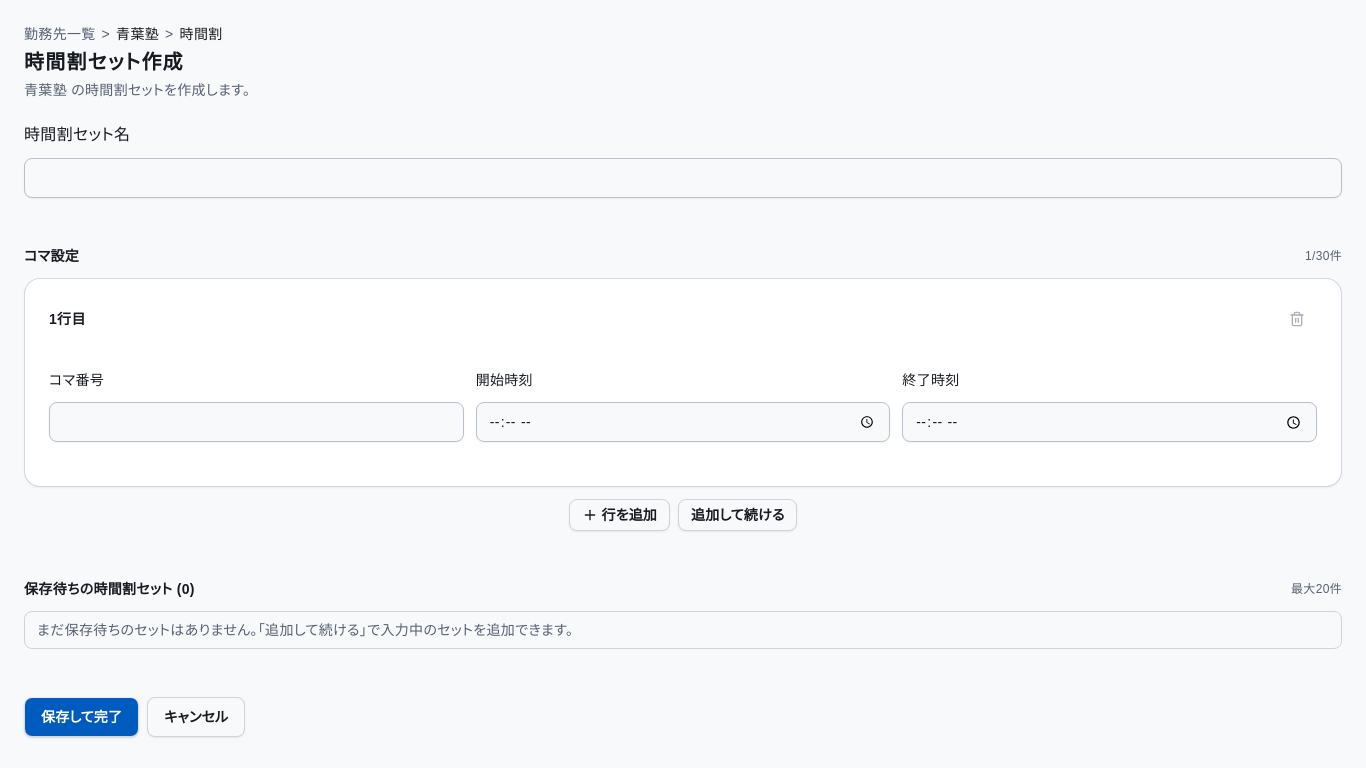
Test: 勤務先管理のP2 UX › 時間割フォームは31限を送信せず、コマ番号入力の上限を表示する
In the field labelled "時間割セット名": (683, 178) [24,158,1342,198], type "夏期時間割"
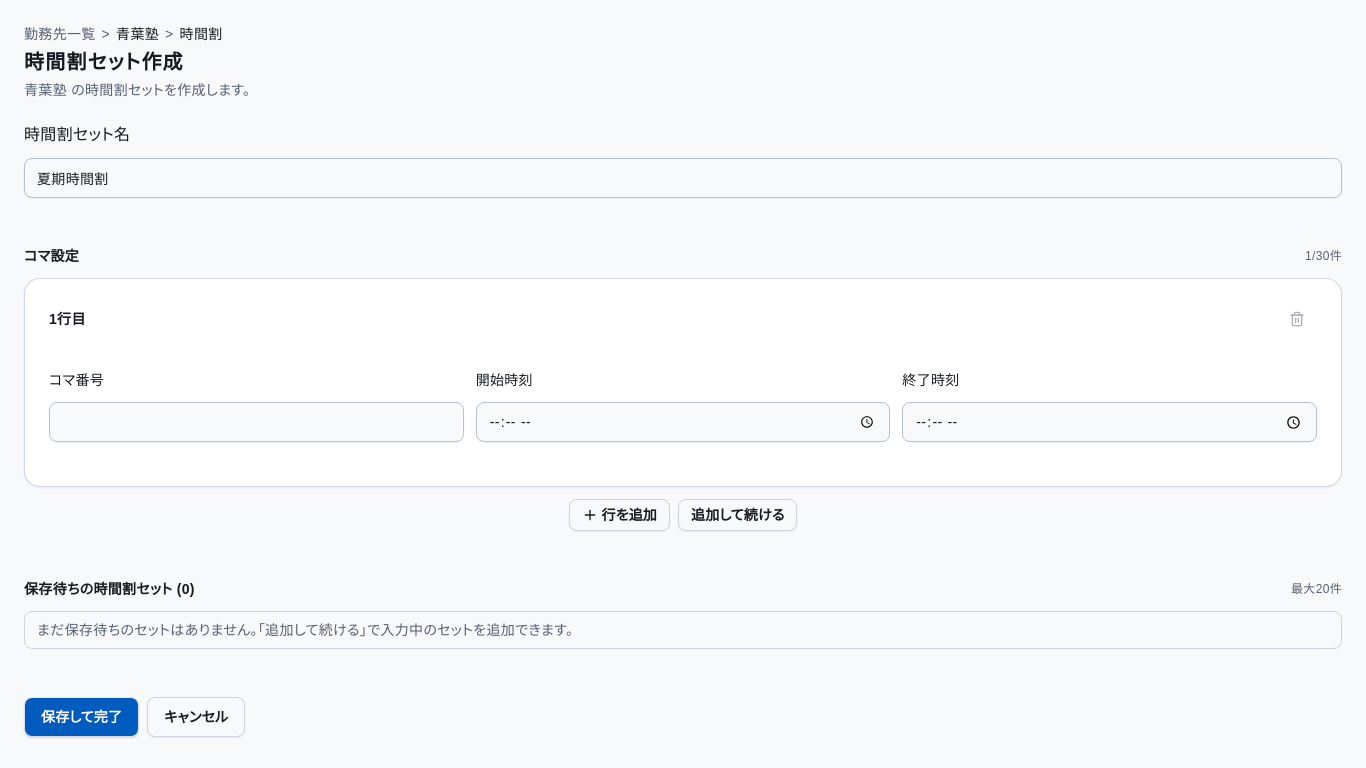
In the time field below "開始時刻": (683, 422) [476,402,890,442], type "09:00"
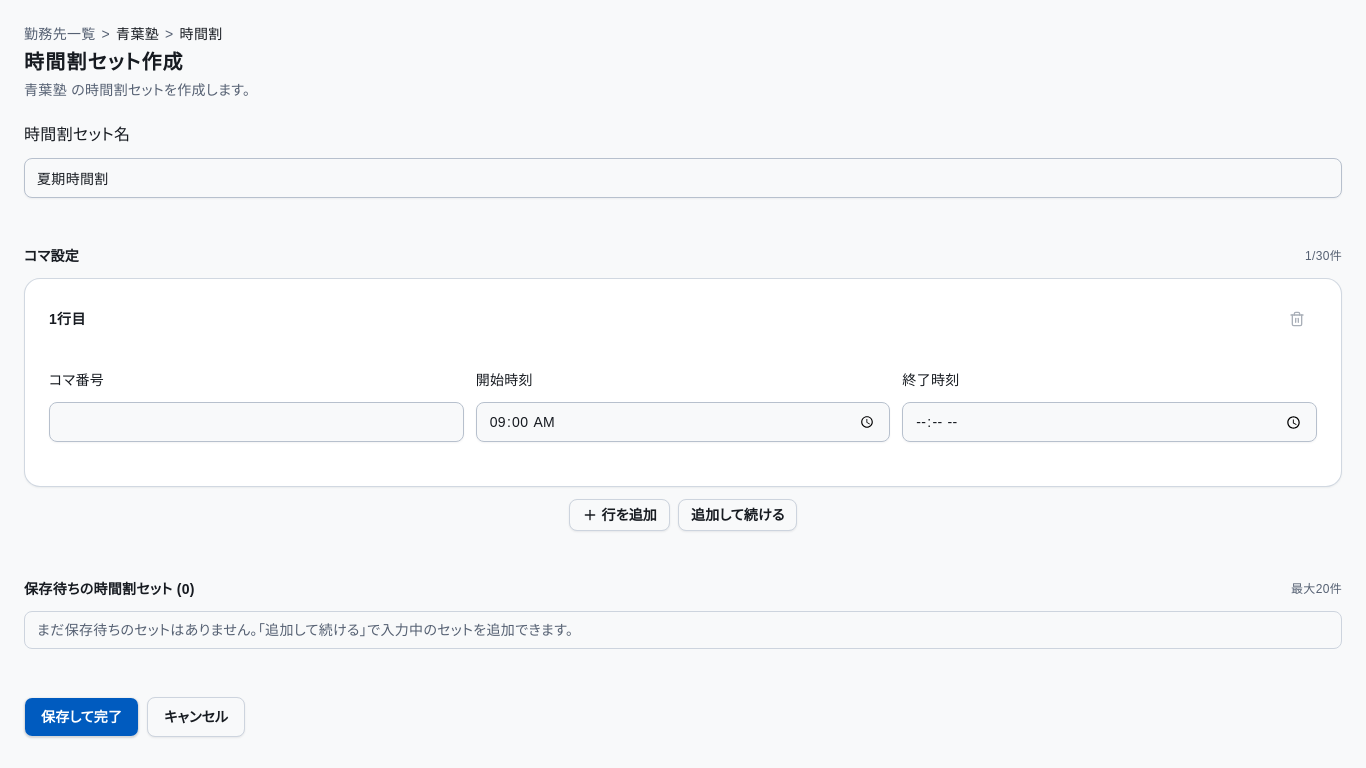
In the time field below "終了時刻": (1110, 422) [902,402,1317,442], type "10:00"
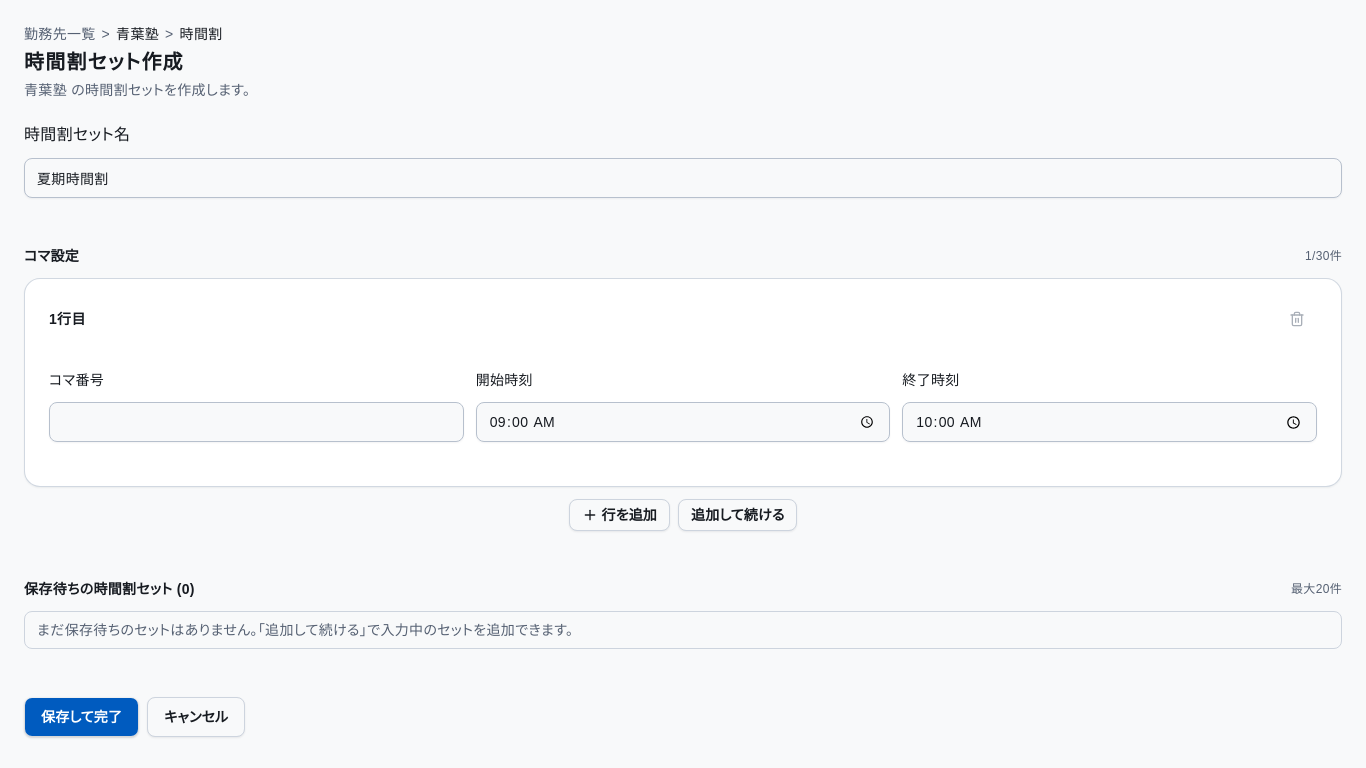
In the number field: (256, 422) [49,402,464,442], type "31"
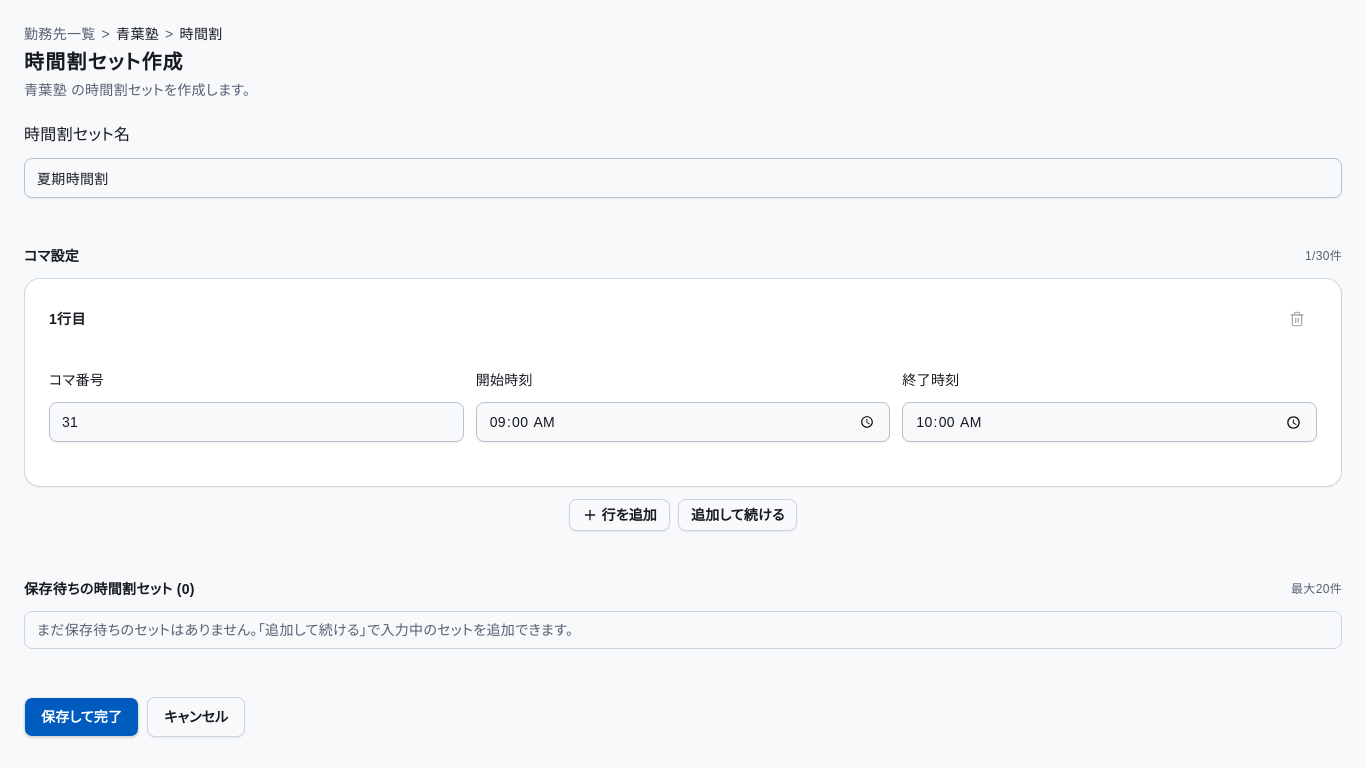
Click the button "保存して完了": (82, 717) [24,697,139,737]
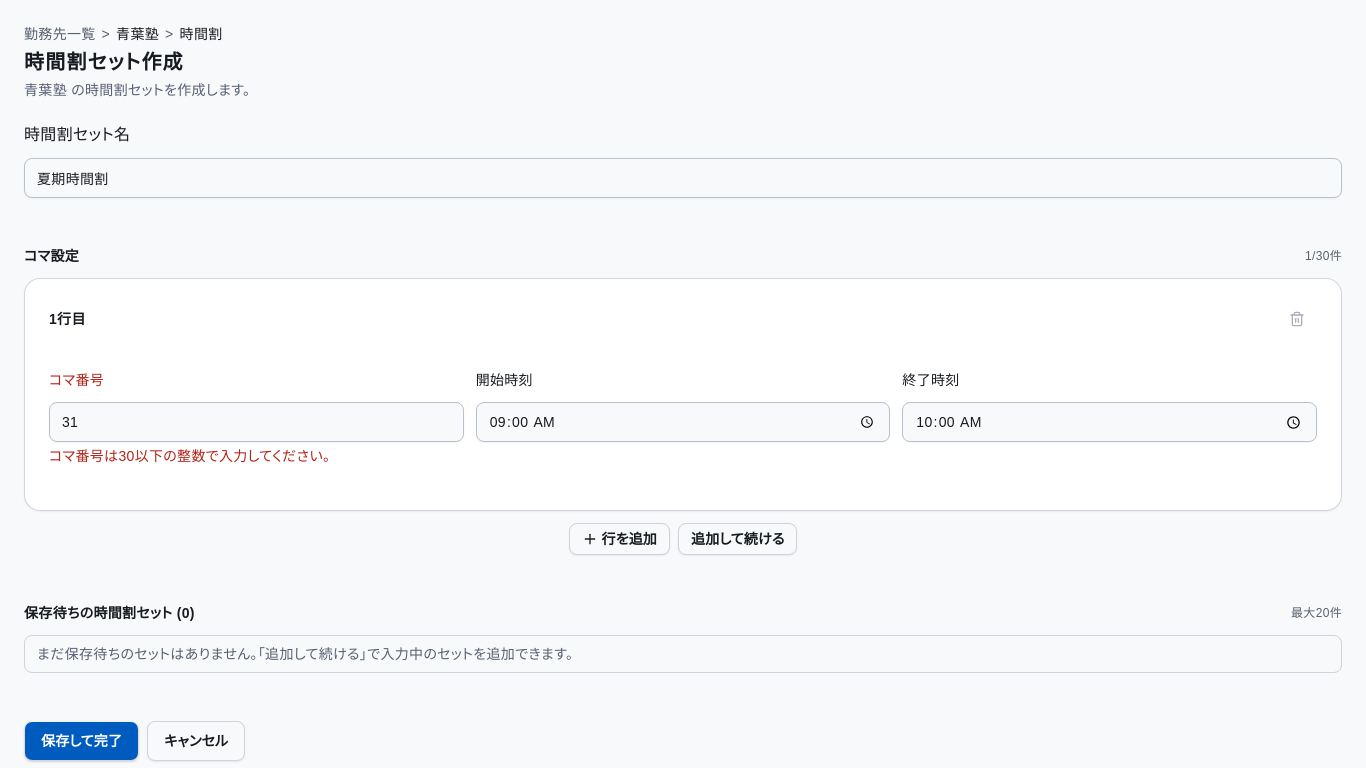
Expected: the text "コマ番号は30以下の整数で入力してください。" is shown, [49,448,330,464]
